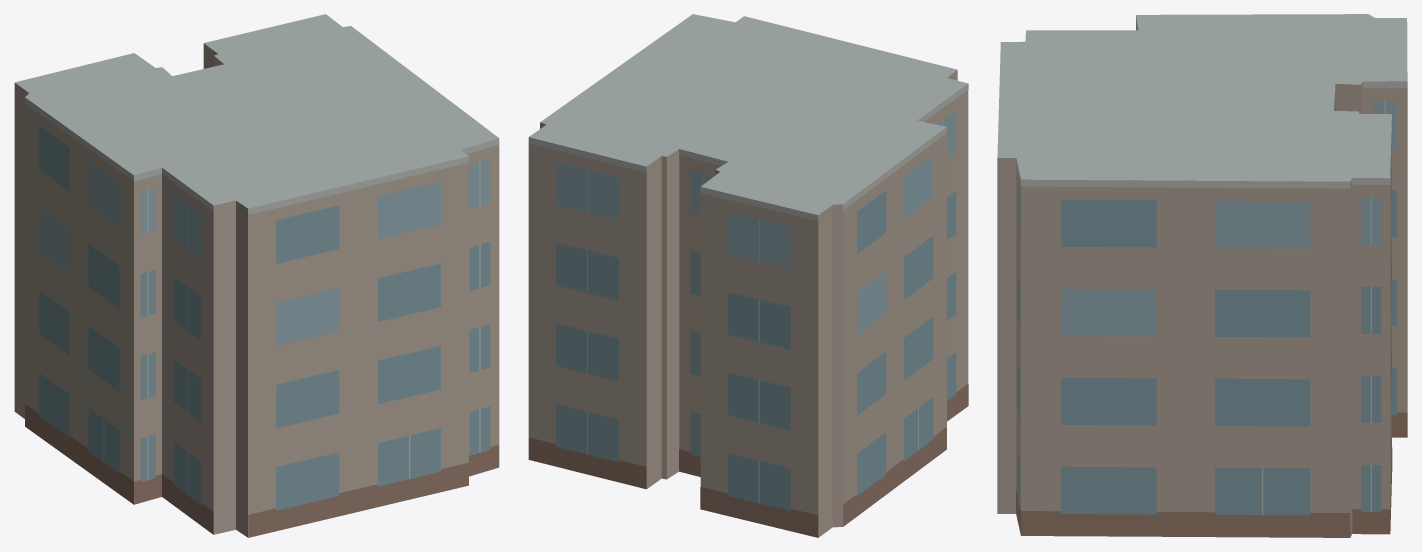
File: survey-upis-32811701.glb
3 views of the same model, side by side, from view 1: azimuth 30°, elevation 25°; view 2: azimuth 150°, elevation 25°; view 3: azimuth 270°, elevation 25° (orthographic). The views are drawn at different scales.
Visible parts, largest first — view 1: survey-upis-32811701.tmp; view 2: survey-upis-32811701.tmp; view 3: survey-upis-32811701.tmp.
Boxes of the visible parts, bbox=[...] form: survey-upis-32811701.tmp: bbox=[14, 14, 499, 537]; survey-upis-32811701.tmp: bbox=[528, 14, 968, 537]; survey-upis-32811701.tmp: bbox=[997, 14, 1407, 537].
Bounding box in the file's own units: 12.79 × 12.65 × 13.22.
